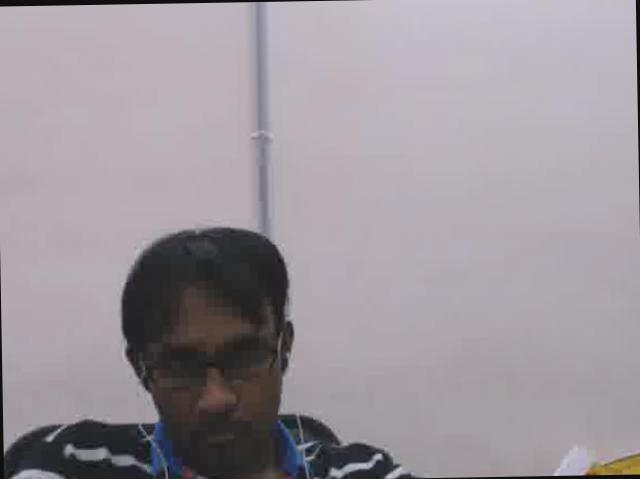bosan: (152, 302, 286, 475)
